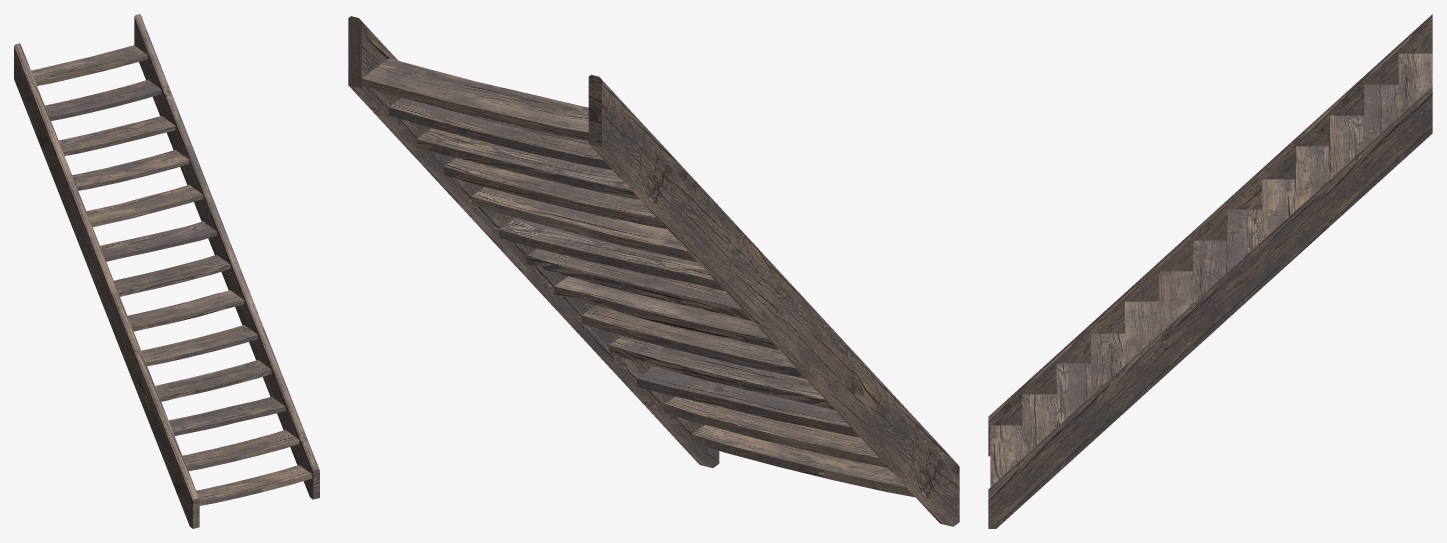
The model's file is WoodStairs.FBX.
3 renders of one model, left to right at view 1: azimuth 30°, elevation 25°; view 2: azimuth 150°, elevation 25°; view 3: azimuth 270°, elevation 25°, orthographic. The views are drawn at different scales.
Visible parts, largest first — view 1: Object010; view 2: Object010; view 3: Object010.
Boxes of the visible parts, x1,y1,x2,y2 form: Object010: (14, 14, 319, 528); Object010: (348, 16, 959, 526); Object010: (988, 14, 1432, 528).
Size of the model in its own units: 37.4 by 99.61 by 91.4.
